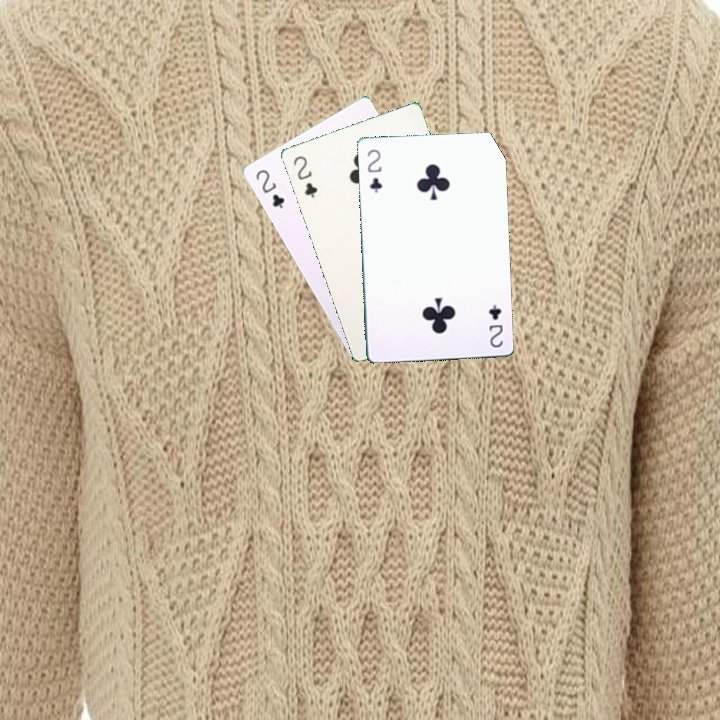2c: (252, 165, 287, 211), (289, 152, 320, 201), (363, 145, 385, 195), (484, 301, 505, 350)
